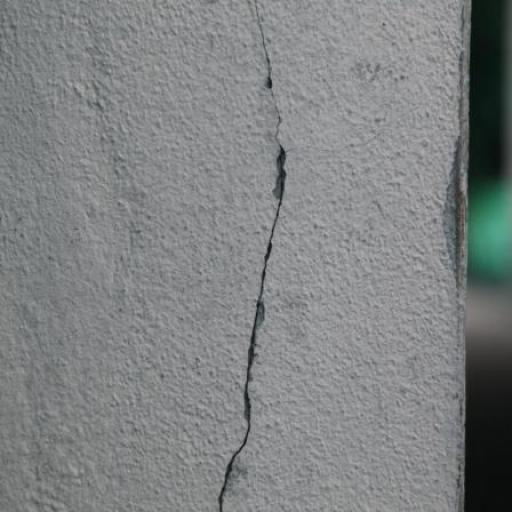spalling: (210, 13, 293, 504)
